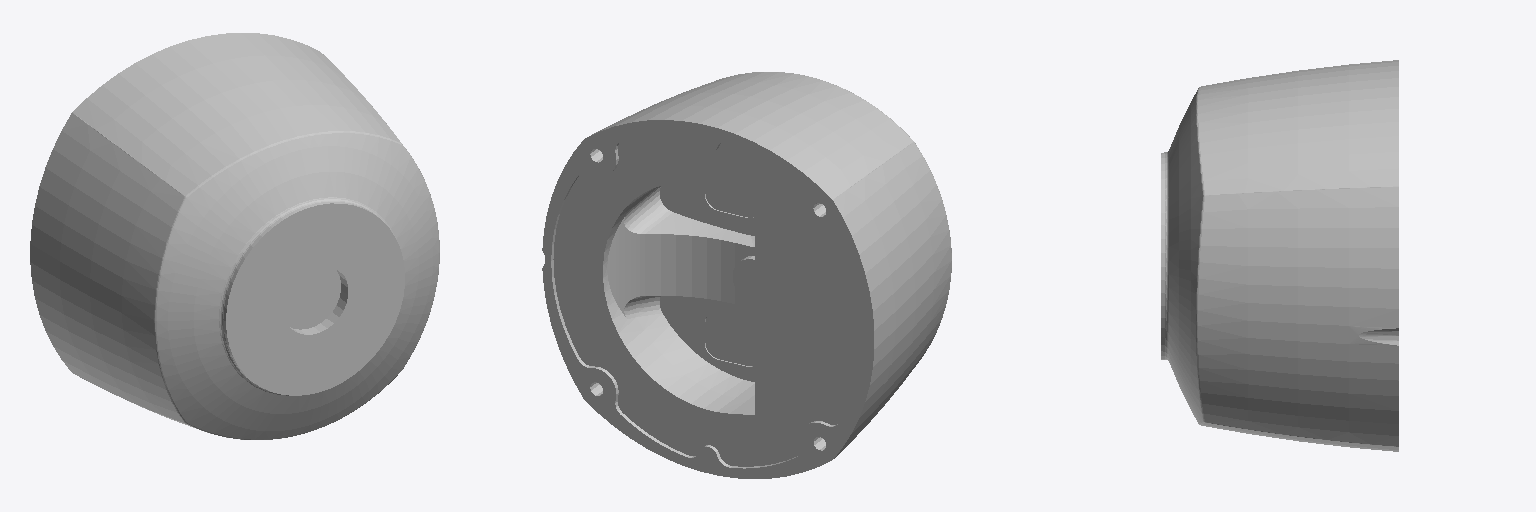
3 views of the same model, side by side, from view 1: azimuth 30°, elevation 25°; view 2: azimuth 150°, elevation 25°; view 3: azimuth 270°, elevation 25° (orthographic).
Visible parts, largest first — view 1: link_0; view 2: link_0; view 3: link_0.
Part boxes in pixels (x1,y1,x2,y2): link_0: (30,33,439,439); link_0: (542,72,951,478); link_0: (1161,60,1398,451).
Bounding box in the file's own units: 0.2525 × 0.2525 × 0.157.